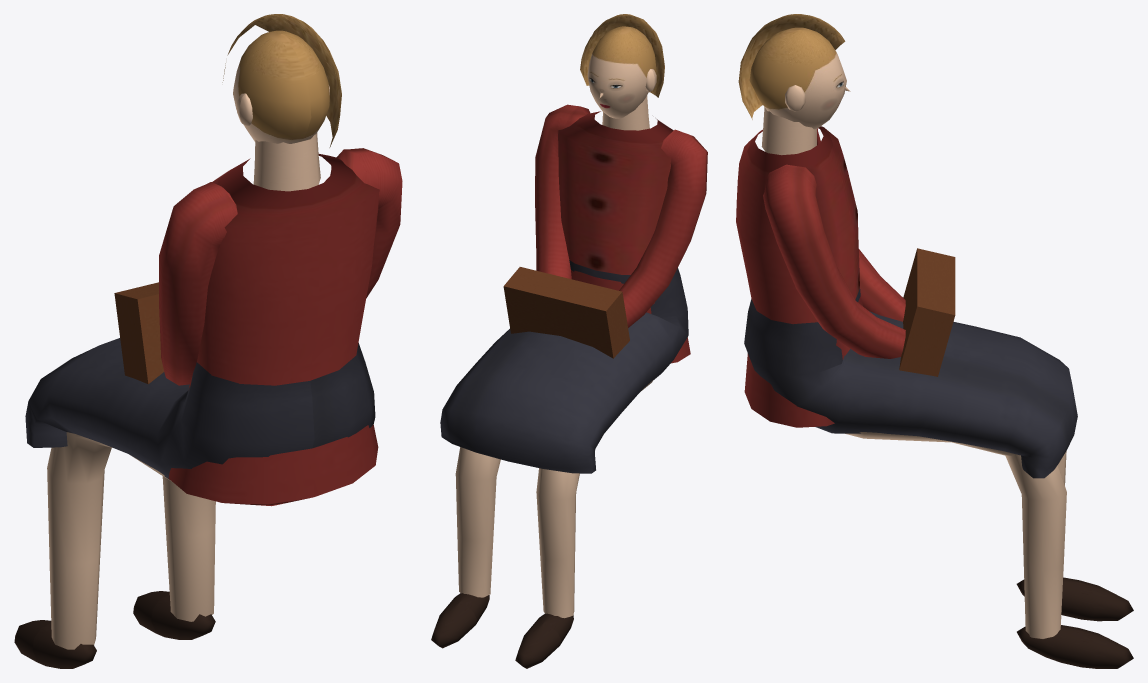
The model's file is woman.glb.
3 renders of one model, left to right at view 1: azimuth 30°, elevation 25°; view 2: azimuth 150°, elevation 25°; view 3: azimuth 270°, elevation 25°, orthographic. The views are drawn at different scales.
Visible parts, largest first — view 1: Body, HeadMesh; view 2: Body, HeadMesh; view 3: Body, HeadMesh.
Part boxes in pixels (bbox=[...]): Body: bbox=[14, 133, 402, 668]; HeadMesh: bbox=[222, 14, 341, 147]; Body: bbox=[431, 95, 707, 668]; HeadMesh: bbox=[580, 14, 664, 118]; Body: bbox=[736, 107, 1133, 668]; HeadMesh: bbox=[738, 14, 850, 129].
Bounding box in the file's own units: 0.4422 × 1.36 × 0.7853.
Materials: 1 (1 with a texture image).
